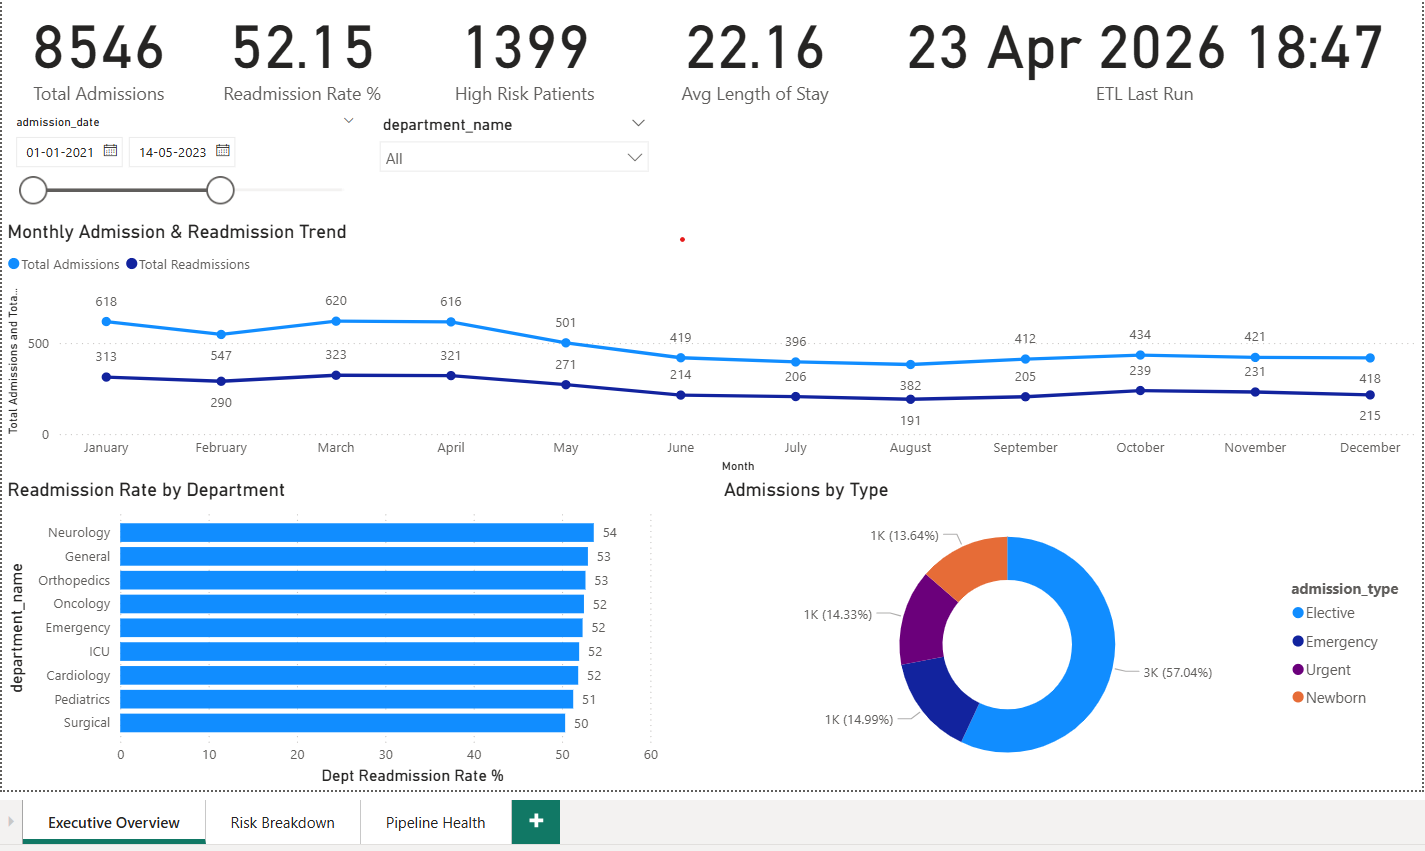

Layout of this report page (visuals, bound fields, positions):
{"tool":"powerbi","page":{"name":"Executive Overview","canvas":[1280,720],"ordinal":0},"visuals":[{"type":"card","fields":{"Values":["production admissions.Total Admissions"]},"box":[0,0,174.9,106.4],"z":0},{"type":"card","fields":{"Values":["production admissions.Readmission Rate %"]},"box":[174.9,0,192,106.4],"z":1000},{"type":"card","fields":{"Values":["production admissions.High Risk Patients"]},"box":[366.8,0,210.3,106.4],"z":2000},{"type":"card","fields":{"Values":["production admissions.ETL Last Run"]},"box":[781.4,0,498.9,106.4],"z":3000},{"type":"card","fields":{"Values":["production admissions.Avg Length of Stay"]},"box":[577.2,0,204.2,106.4],"z":4000},{"type":"lineChart","title":"Monthly Admission & Readmission Trend","fields":{"Category":["production admissions.admission_date.Variation.Date Hierarchy.Month"],"Y":["production admissions.Total Admissions","production admissions.Total Readmissions"]},"box":[0,206.7,1280.3,232.3],"z":5000},{"type":"donutChart","title":"Admissions by Type","fields":{"Category":["production admissions.admission_type"],"Y":["production admissions.Total Admissions"]},"box":[645.7,439,634.7,281.3],"z":6000},{"type":"slicer","fields":{"Values":["production admissions.admission_date"]},"box":[0,106.4,330.2,100.3],"z":7000},{"type":"slicer","fields":{"Values":["production departments.department_name"]},"box":[330.2,106.4,262.9,100.3],"z":8000},{"type":"clusteredBarChart","title":"Readmission Rate by Department","fields":{"Category":["production vw_admission_summary.department_name"],"Y":["production admissions.Dept Readmission Rate %"]},"box":[0,439,646,281],"z":9000}]}

Visuals, with their boxes on the page's 1280x720 design canvas (x1, y1, x2, y2). These are canvas units, not pixel positions in the 1425x851 screenshot, which may show the page scaled, cropped or inside an application window:
card - production admissions.Total Admissions: (0, 0, 175, 106)
card - production admissions.Readmission Rate %: (175, 0, 367, 106)
card - production admissions.High Risk Patients: (367, 0, 577, 106)
card - production admissions.ETL Last Run: (781, 0, 1280, 106)
card - production admissions.Avg Length of Stay: (577, 0, 781, 106)
"Monthly Admission & Readmission Trend" lineChart: (0, 207, 1280, 439)
"Admissions by Type" donutChart: (646, 439, 1280, 720)
slicer - production admissions.admission_date: (0, 106, 330, 207)
slicer - production departments.department_name: (330, 106, 593, 207)
"Readmission Rate by Department" clusteredBarChart: (0, 439, 646, 720)
